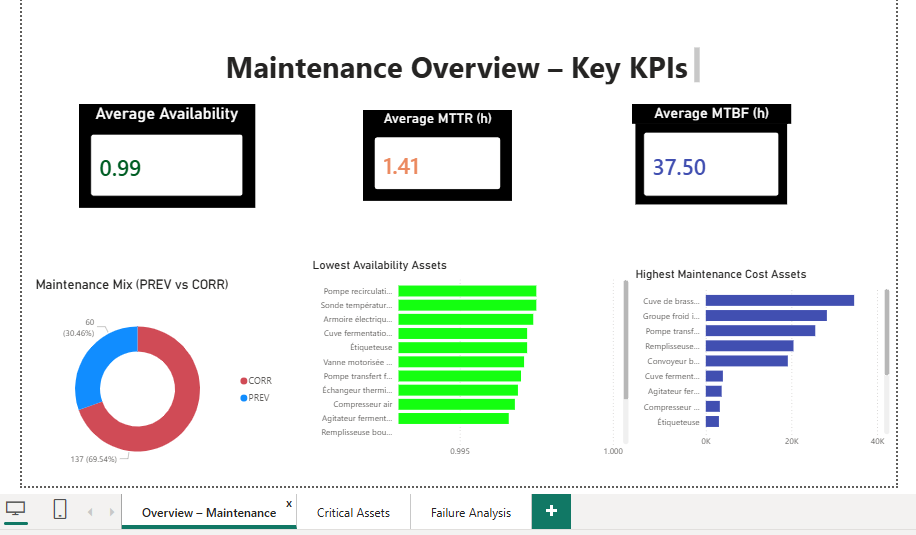

What the dashboard file says about the page in this screenshot:
{"tool":"powerbi","page":{"name":"Overview – Maintenance","canvas":[1280,720],"ordinal":0},"visuals":[{"type":"cardVisual","title":"Average Availability","fields":{"Data":["Avg(asset_kpi.availability_ratio)","select","select1"]},"box":[83.4,161,257.6,152.2],"z":0},{"type":"cardVisual","title":"Average MTTR (h)","fields":{"Data":["Avg(asset_kpi.mttr_hours)"]},"box":[499,169.8,218,133.2],"z":1000},{"type":"cardVisual","title":"Average MTBF (h)","fields":{"Data":["Avg(asset_kpi.mtbf_hours)"]},"box":[892.7,161,232.7,152.2],"z":2000},{"type":"donutChart","title":"Maintenance Mix (PREV vs CORR)","fields":{"Category":["maintenance_mix.maintenance_type"],"Y":["Sum(maintenance_mix.nb_work_orders)"]},"box":[14.6,414.1,365.9,305.9],"z":3000},{"type":"barChart","title":"Lowest Availability Assets","fields":{"Category":["asset_kpi.asset_name"],"Y":["Avg(asset_kpi.availability_ratio)"]},"box":[420,386.3,472.7,301.5],"z":4000},{"type":"barChart","title":"Highest Maintenance Cost Assets","fields":{"Category":["asset_kpi.asset_name"],"Y":["Sum(asset_kpi.total_maintenance_cost)"]},"box":[892.7,399.5,382,273.7],"z":5000},{"type":"textbox","box":[289.8,73.2,706.8,64.4],"z":6000}]}

Visuals, with their boxes on the page's 1280x720 design canvas (x1, y1, x2, y2). These are canvas units, not pixel positions in the 916x535 screenshot, which may show the page scaled, cropped or inside an application window:
"Average Availability" cardVisual: (83,161,341,313)
"Average MTTR (h)" cardVisual: (499,170,717,303)
"Average MTBF (h)" cardVisual: (893,161,1125,313)
"Maintenance Mix (PREV vs CORR)" donutChart: (15,414,380,720)
"Lowest Availability Assets" barChart: (420,386,893,688)
"Highest Maintenance Cost Assets" barChart: (893,400,1275,673)
textbox: (290,73,997,138)
